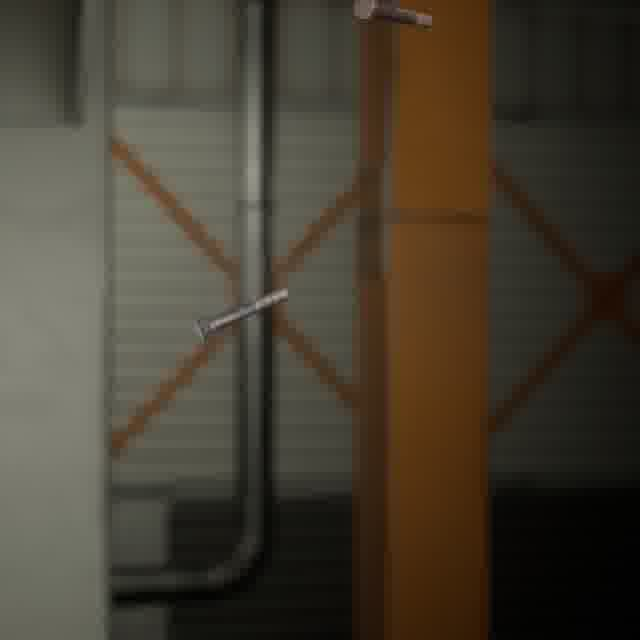bolt: (190, 282, 293, 346), (348, 0, 437, 33)
